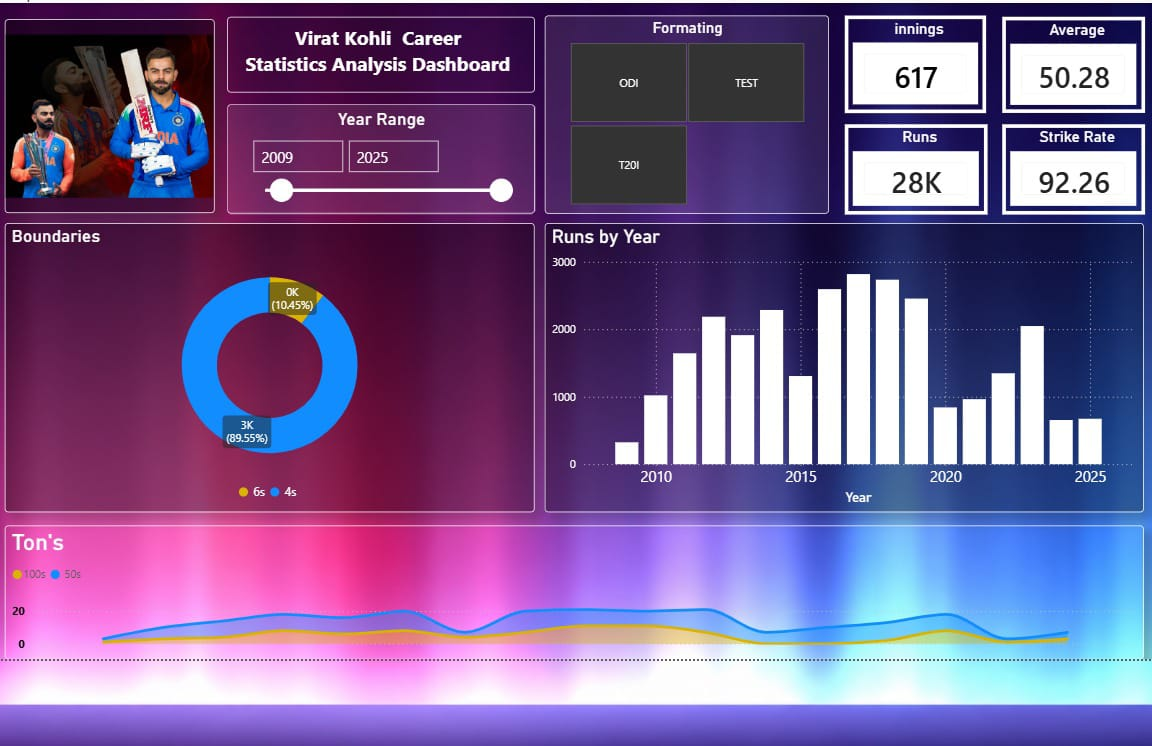

This screenshot's page, from the dashboard's own definition file:
{"tool":"powerbi","page":{"name":"Page 1","canvas":[1280,720],"ordinal":0},"visuals":[{"type":"image","box":[15.5,18.4,230.1,213.1],"z":0},{"type":"textbox","box":[259.7,15.5,337.4,83.3],"z":1000},{"type":"cardVisual","title":"innings","fields":{"Data":["Sum(Overall.Innings)"]},"box":[937.3,14.1,155.3,107.3],"z":2000},{"type":"cardVisual","title":"Runs","fields":{"Data":["Sum(Overall.Runs)"]},"box":[937.3,132.7,156.7,98.8],"z":3000},{"type":"cardVisual","title":"Average","fields":{"Data":["Avg(Overall.Avg)"]},"box":[1109.5,15.5,156.7,105.9],"z":4000},{"type":"cardVisual","title":"Strike Rate","fields":{"Data":["Avg(Overall.SR)"]},"box":[1109.5,132.7,156.7,98.8],"z":5000},{"type":"slicer","title":"Year Range","fields":{"Values":["Overall.Year"]},"box":[259.7,111.5,337.4,120],"z":6000},{"type":"slicer","title":"Formating","fields":{"Values":["Overall.Formating"]},"box":[608.4,14.1,312,217.4],"z":7000},{"type":"clusteredColumnChart","title":"Runs by Year","fields":{"Category":["Overall.Year"],"Y":["Sum(Overall.Runs)"]},"box":[608.4,241.4,657.8,317.6],"z":8000},{"type":"donutChart","title":"Boundaries","fields":{"Y":["Sum(Overall.6s)","Sum(Overall.4s)"]},"box":[15.5,241.4,581.6,317.6],"z":9000},{"type":"stackedAreaChart","title":"Ton''s","fields":{"Category":["Overall.Year"],"Y":["Sum(Overall.100)","Sum(Overall.50)"]},"box":[15.5,573.1,1250.6,146.8],"z":10000}]}

Visuals, with their boxes in screenshot pixels (x1, y1, x2, y2):
image: pyautogui.locateOnScreen(0, 14, 205, 210)
textbox: pyautogui.locateOnScreen(218, 11, 528, 88)
"innings" cardVisual: pyautogui.locateOnScreen(841, 10, 984, 109)
"Runs" cardVisual: pyautogui.locateOnScreen(841, 119, 986, 210)
"Average" cardVisual: pyautogui.locateOnScreen(1000, 11, 1144, 109)
"Strike Rate" cardVisual: pyautogui.locateOnScreen(1000, 119, 1144, 210)
"Year Range" slicer: pyautogui.locateOnScreen(218, 100, 528, 210)
"Formating" slicer: pyautogui.locateOnScreen(539, 10, 826, 210)
"Runs by Year" clusteredColumnChart: pyautogui.locateOnScreen(539, 219, 1144, 511)
"Boundaries" donutChart: pyautogui.locateOnScreen(0, 219, 528, 511)
"Ton''s" stackedAreaChart: pyautogui.locateOnScreen(0, 524, 1144, 659)
